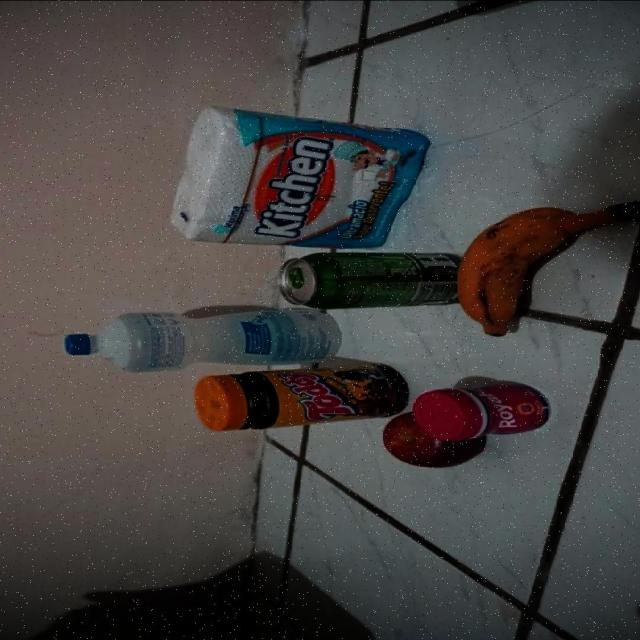AlcoholBottle: (66, 308, 342, 372)
Apple: (383, 408, 488, 466)
Banana: (457, 198, 640, 336)
BeerCan: (281, 252, 464, 307)
ChocolatePowder: (195, 362, 409, 430)
Napkin: (170, 107, 431, 248)
Yeast: (414, 382, 550, 441)
